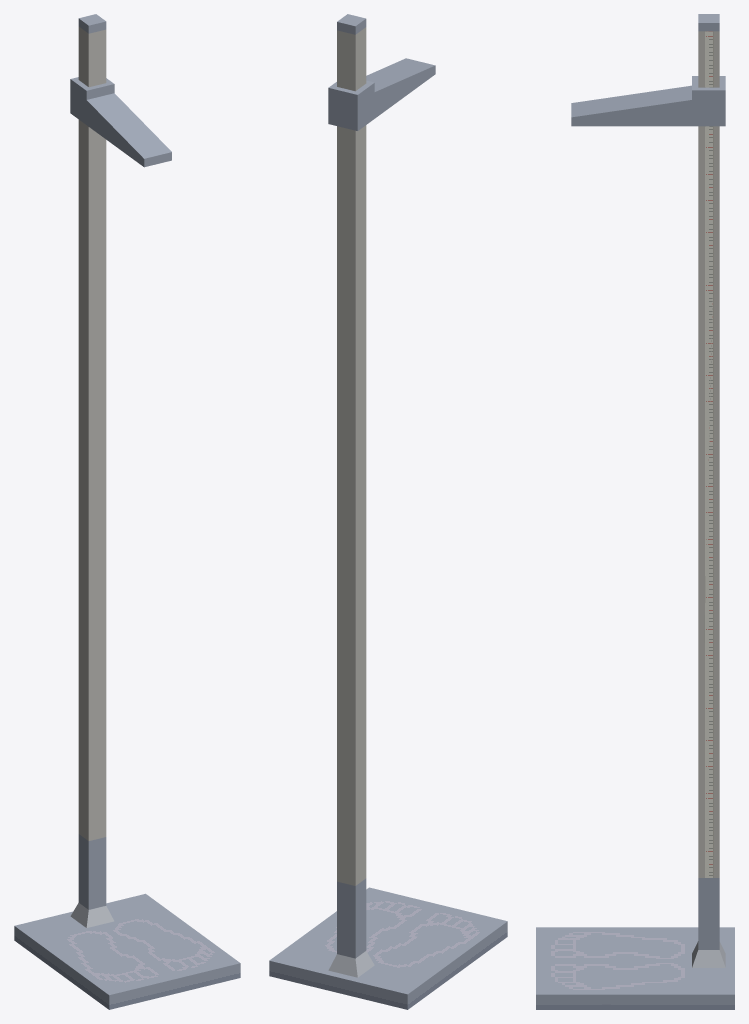
File: 0083_Height_Measure.glb
3 renders of one model, left to right at view 1: azimuth 30°, elevation 25°; view 2: azimuth 150°, elevation 25°; view 3: azimuth 270°, elevation 25°, orthographic. The views are drawn at different scales.
Parts seen in each view (by area): view 1: part_0; view 2: part_0; view 3: part_0.
Part boxes in pixels (x1,y1,x2,y2): part_0: [14, 14, 240, 1009]; part_0: [269, 14, 507, 1009]; part_0: [536, 14, 734, 1009].
Bounding box in the file's own units: 0.28 × 1.86 × 0.35.
1 material, 1 textured.
